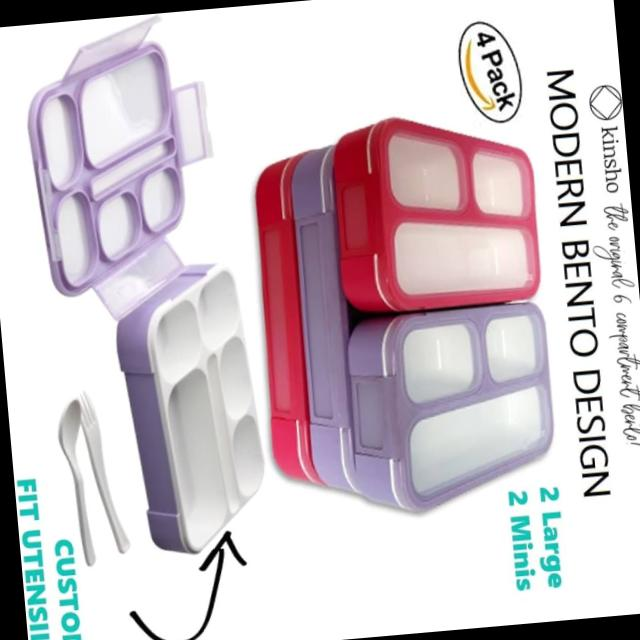plastic_box: (231, 91, 565, 554), (0, 42, 228, 337), (94, 239, 276, 594)
